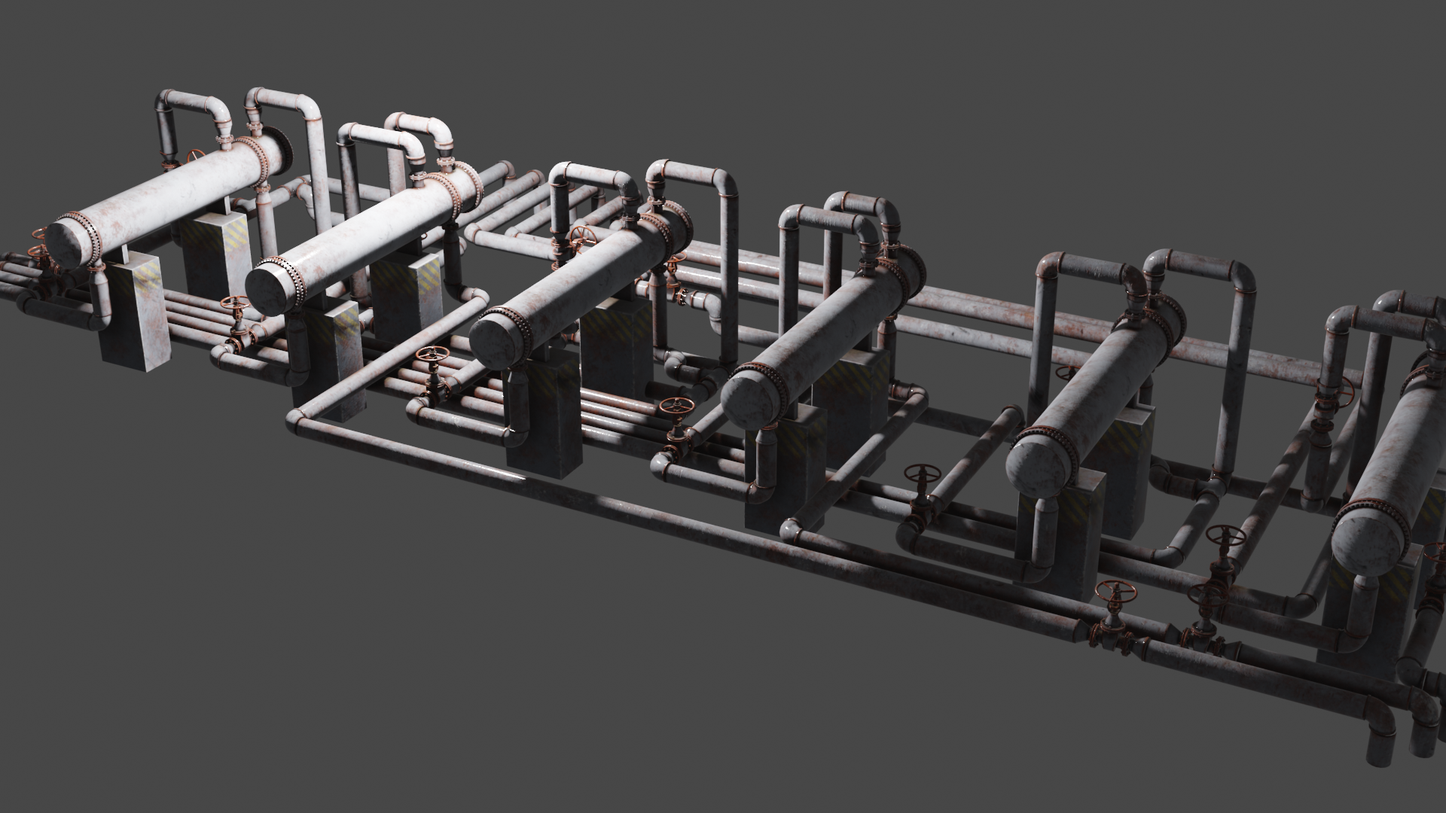HE_1: (1331, 326, 1446, 589)
HE_2: (1001, 284, 1190, 506)
HE_3: (715, 238, 934, 432)
HE_4: (465, 196, 697, 375)
HE_5: (242, 157, 486, 319)
HE_6: (44, 121, 295, 277)
